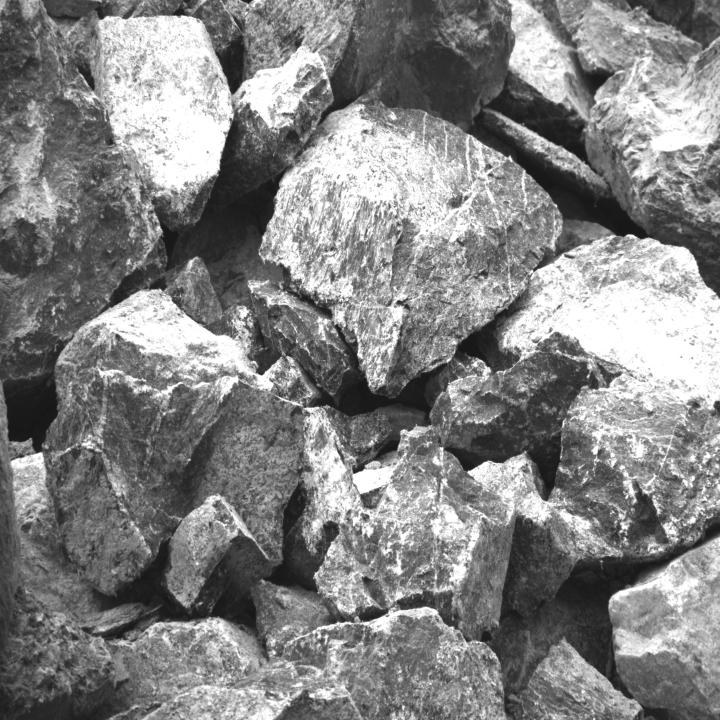stone: (258, 94, 564, 399), (41, 288, 312, 616), (312, 441, 516, 642), (583, 35, 720, 298), (548, 373, 720, 567), (90, 15, 234, 236), (202, 46, 335, 217), (428, 329, 596, 463), (608, 532, 720, 720)
